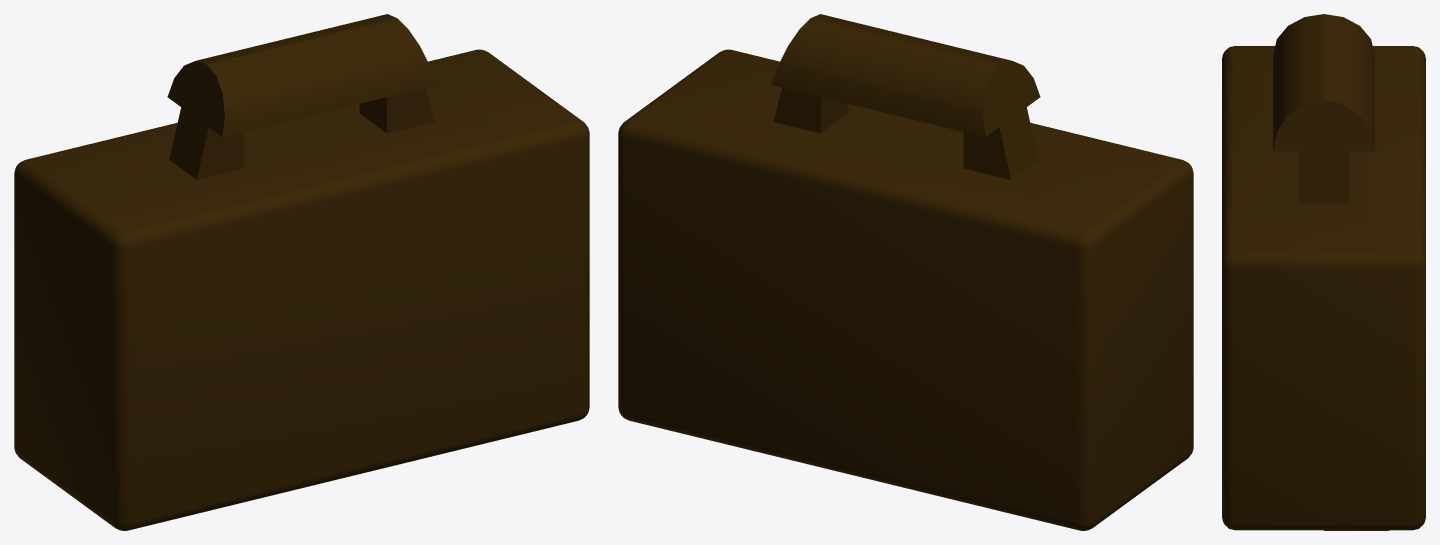
Rendered from suitcase.glb.
3 views of the same model, side by side, from view 1: azimuth 30°, elevation 25°; view 2: azimuth 150°, elevation 25°; view 3: azimuth 270°, elevation 25° (orthographic). The views are drawn at different scales.
Parts seen in each view (by area): view 1: 00001_4449-f1.dat; view 2: 00001_4449-f1.dat; view 3: 00001_4449-f1.dat.
Boxes of the visible parts, bbox=[...] form: 00001_4449-f1.dat: bbox=[14, 14, 589, 530]; 00001_4449-f1.dat: bbox=[618, 14, 1193, 530]; 00001_4449-f1.dat: bbox=[1222, 14, 1425, 530].
Bounding box in the file's own units: 2.03 × 1.68 × 0.813.
